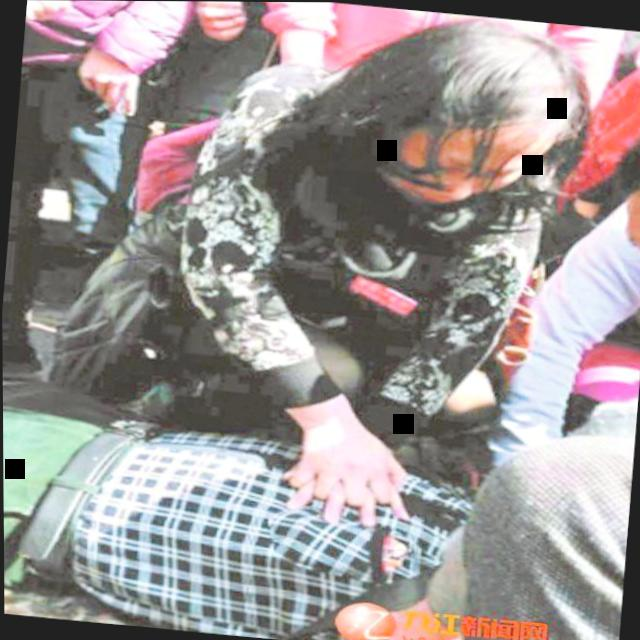Fall-Detected: (2, 322, 550, 640)
